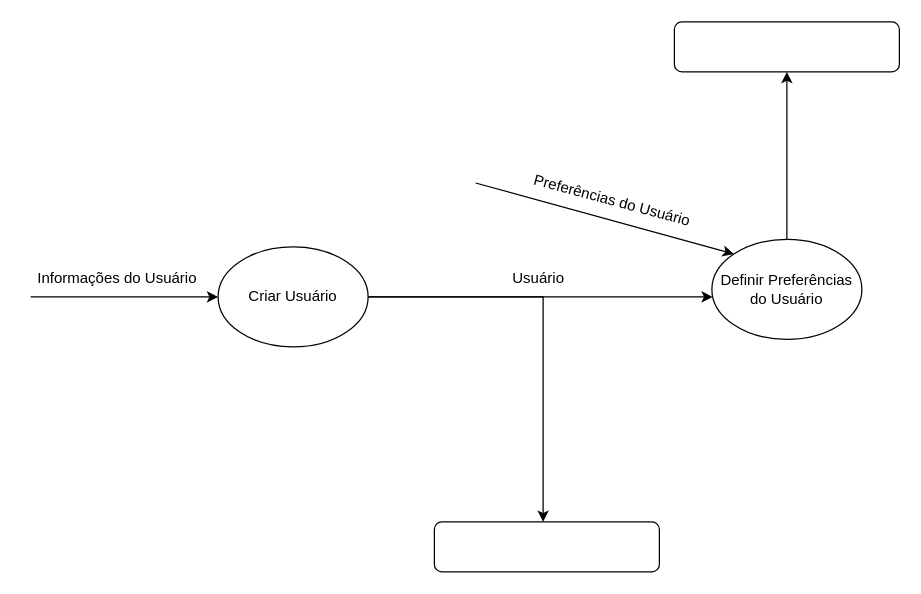
This 921x594 diagram has some shape labels left out. Each missing label, with the box of its shape:
user_preferences: (673, 21, 899, 72)
users: (433, 521, 659, 572)
